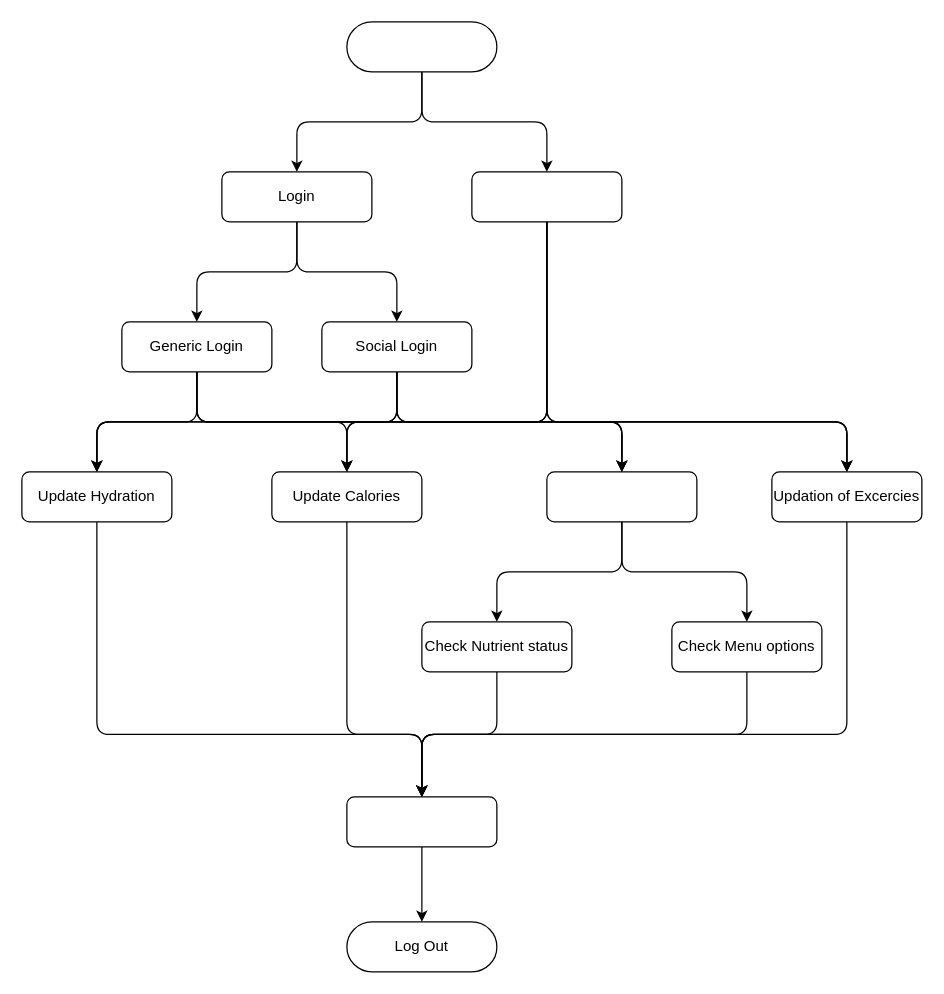
This 944x994 diagram has some shape labels left out. The shapes that lost their labels are listed below. From the top down, each one's box as (x1, y1, x2, y2) in pixels, then its label:
(346, 21, 497, 72): Start
(471, 171, 622, 222): Register
(546, 471, 697, 522): Checking of Menu
(346, 796, 497, 847): Final Helath Check
